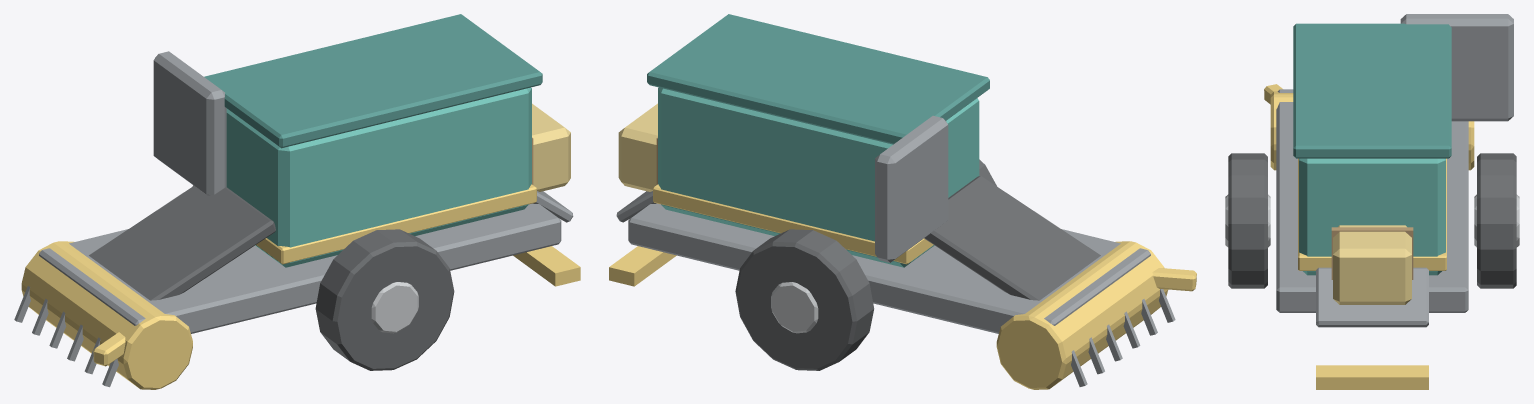
The model's file is Baler.fbx.
3 renders of one model, left to right at view 1: azimuth 30°, elevation 25°; view 2: azimuth 150°, elevation 25°; view 3: azimuth 270°, elevation 25°, orthographic. The views are drawn at different scales.
Parts seen in each view (by area): view 1: BL_Chamber, BL_ChamberTop, BL_Chassis, BL_Wheel1, BL_Feed, BL_Reel, BL_Flywheel, BL_Stripe, BL_Bale, BL_Hub1, BL_PortOut, BL_Drawbar (+1 smaller); view 2: BL_Chamber, BL_ChamberTop, BL_Chassis, BL_Wheel2, BL_Feed, BL_Reel, BL_Flywheel, BL_Stripe, BL_Bale, BL_Hub2, BL_PortOut, BL_Drawbar (+1 smaller); view 3: BL_ChamberTop, BL_Chamber, BL_Chassis, BL_Flywheel, BL_Bale, BL_Wheel1, BL_Wheel2, BL_Chute, BL_PortOut, BL_Stripe, BL_Reel, BL_BaleTie (+2 smaller).
Boxes of the visible parts, x1,y1,x2,y2 form: BL_Chamber: (226,87,531,267); BL_ChamberTop: (204,14,542,148); BL_Chassis: (39,203,561,333); BL_Wheel1: (315,229,454,370); BL_Feed: (89,186,275,300); BL_Reel: (21,241,192,389); BL_Flywheel: (153,51,226,195); BL_Stripe: (256,184,536,264); BL_Bale: (532,103,570,191); BL_Hub1: (371,282,418,333); BL_PortOut: (513,246,580,286); BL_Drawbar: (93,332,125,366); BL_Chamber: (658,87,979,267); BL_ChamberTop: (647,14,989,144); BL_Chassis: (628,203,1150,333); BL_Wheel2: (735,229,874,370); BL_Feed: (924,176,1100,300); BL_Reel: (996,241,1167,389); BL_Flywheel: (875,115,948,262); BL_Stripe: (653,184,933,264); BL_Bale: (618,103,657,191); BL_Hub2: (771,282,818,333); BL_PortOut: (609,246,676,286); BL_Drawbar: (1152,268,1196,291); BL_ChamberTop: (1293,23,1451,158); BL_Chamber: (1299,158,1445,275); BL_Chassis: (1276,89,1468,312); BL_Flywheel: (1400,14,1513,121); BL_Bale: (1333,225,1411,304); BL_Wheel1: (1228,153,1267,288); BL_Wheel2: (1477,153,1516,288); BL_Chute: (1316,267,1428,327); BL_PortOut: (1316,365,1428,389); BL_Stripe: (1298,158,1446,270); BL_Reel: (1270,91,1474,170); BL_BaleTie: (1331,227,1413,279).
Size of the model in its own units: 10.05 by 4.4 by 5.2.
